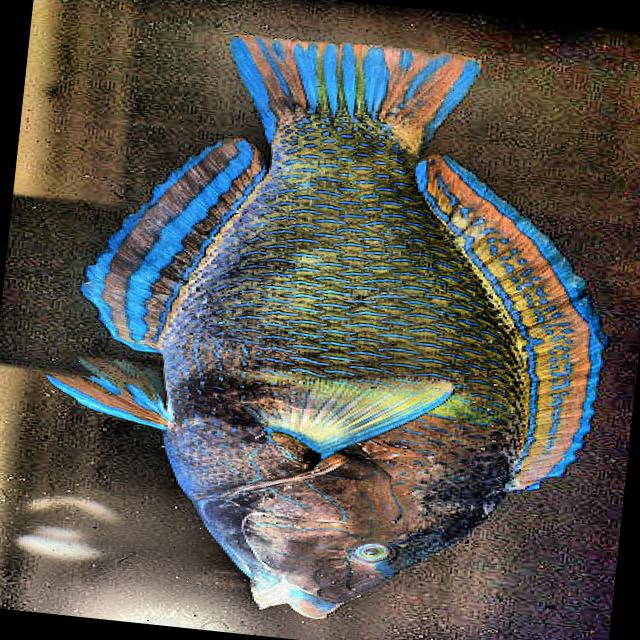fish: (13, 18, 626, 640)
